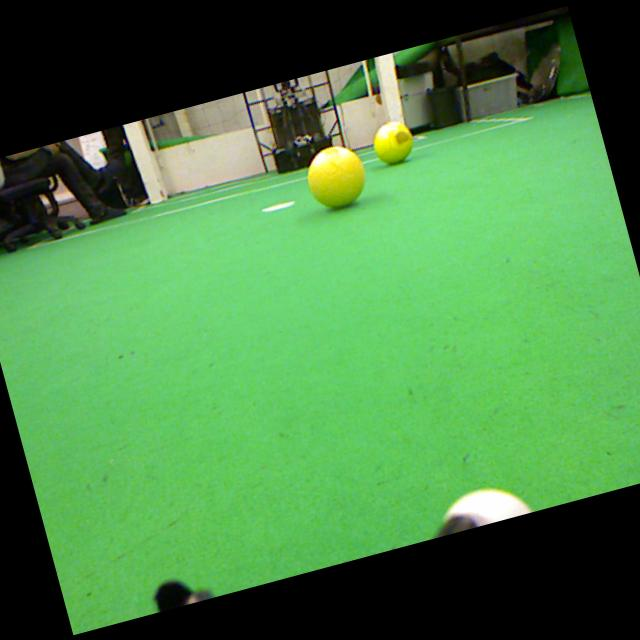ball: (308, 146, 364, 208), (373, 120, 413, 163)
goal: (123, 120, 164, 204), (378, 52, 405, 124)
robot: (266, 77, 332, 173)
